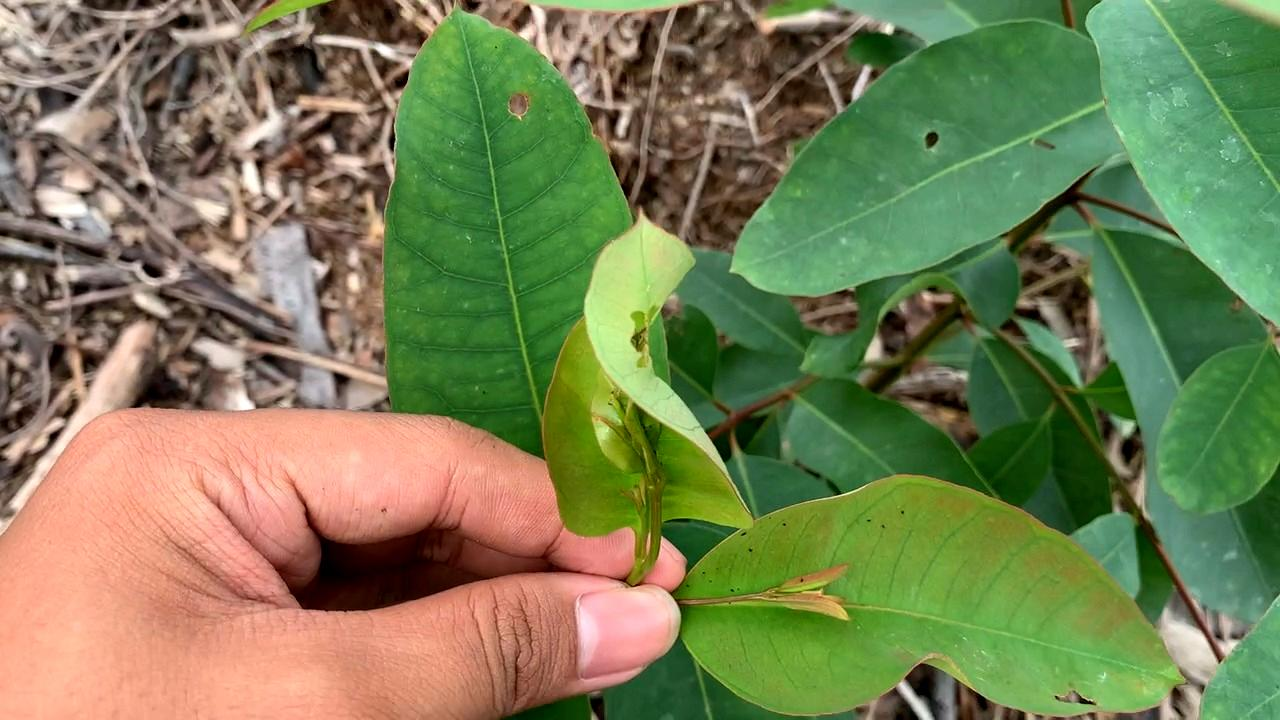Leaf Roller - Leaf: (534, 208, 757, 555)
